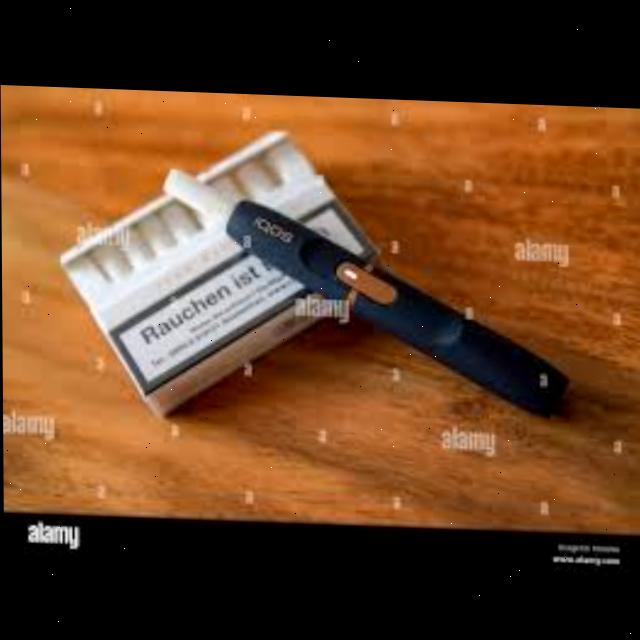vape: (163, 166, 568, 417)
